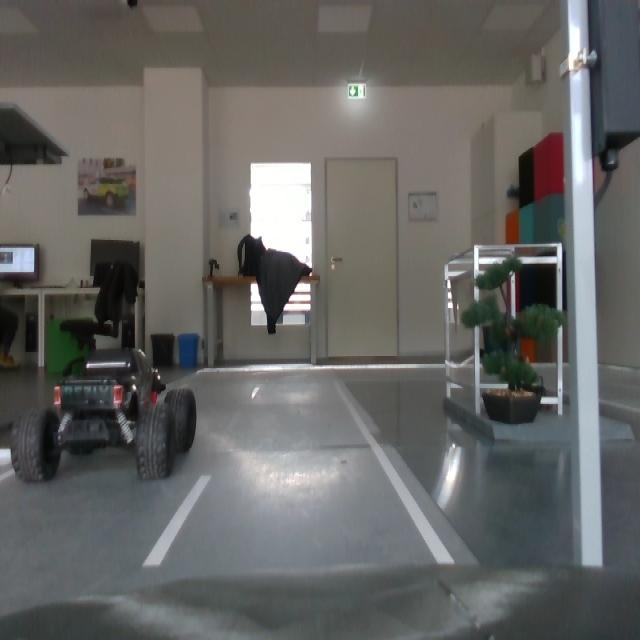car: (9, 344, 198, 485)
potted plant: (460, 258, 571, 395)
traffic light: (592, 2, 640, 164)
